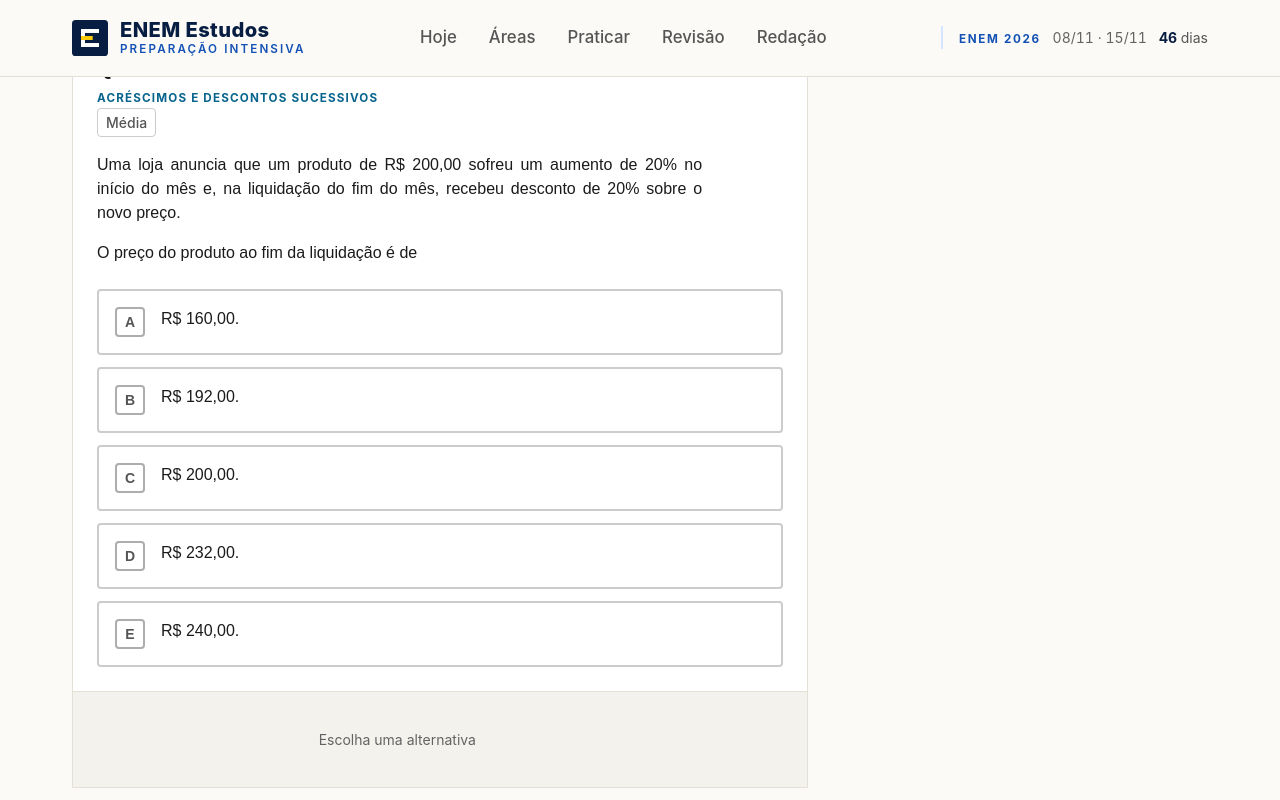
resolução de questão e correção › confirma o acerto e não mostra o diagnóstico de erro
(page scrolled)
Click the button named "Alternativa B" at [200, 396], box [97,367,783,433]
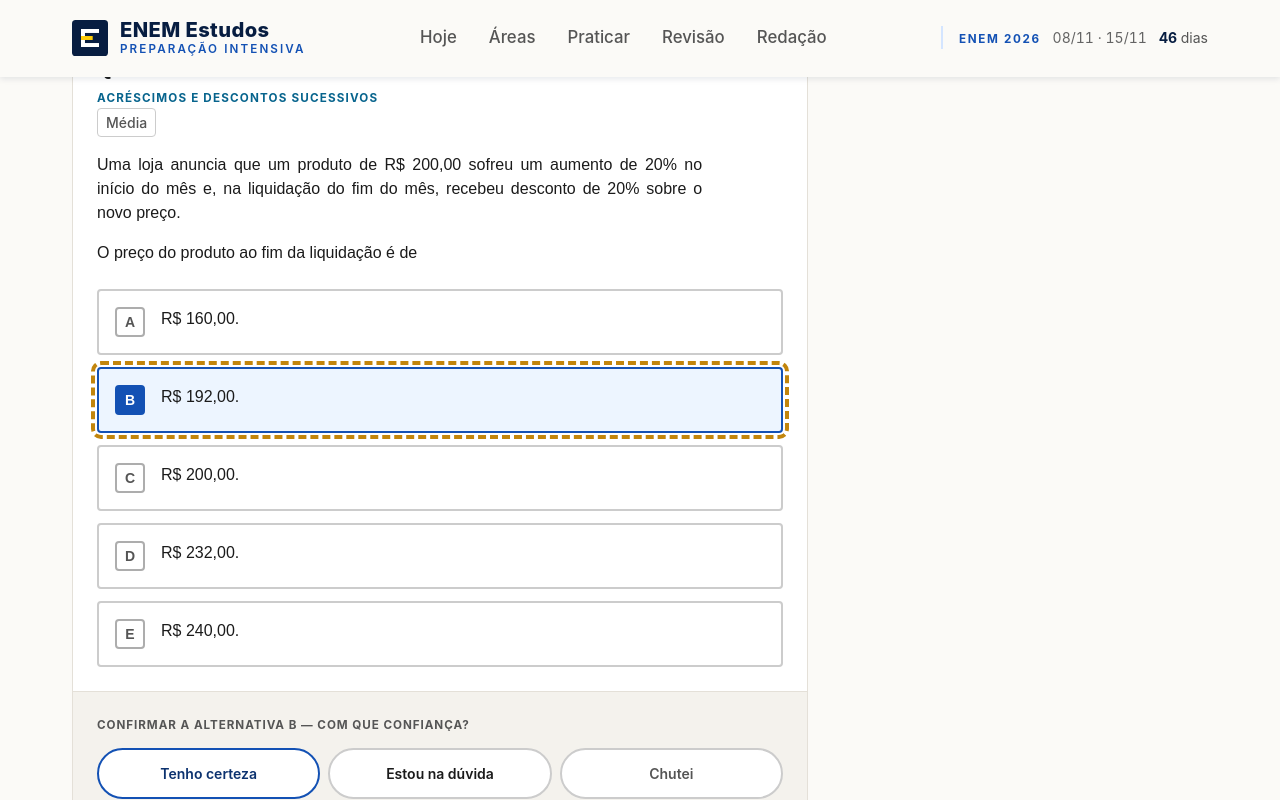
Click the button "Tenho certeza" at [209, 773], box [97,748,320,799]
(page scrolled)
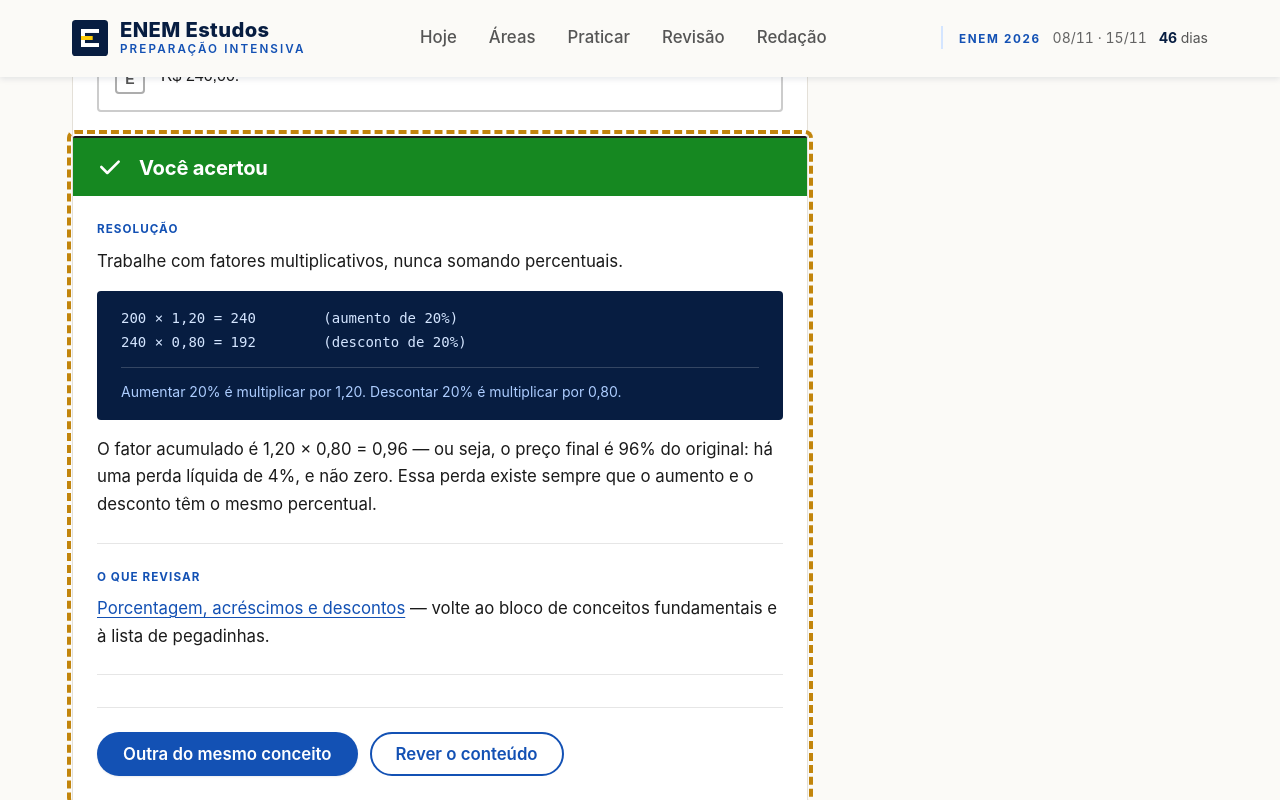
Now the heading "Você acertou" is shown, box [139,156,268,179]
